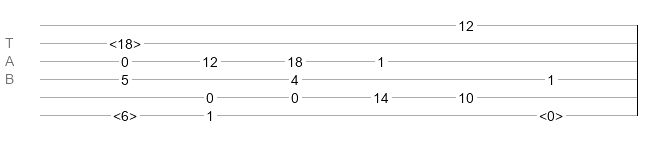0: (121, 54, 129, 64), (206, 90, 214, 100), (291, 90, 299, 100)
1: (206, 108, 214, 118), (377, 54, 385, 64), (547, 72, 555, 82)
10: (458, 90, 474, 100)
12: (202, 54, 218, 64), (458, 18, 474, 28)
14: (373, 90, 389, 100)
18: (287, 54, 303, 64)
4: (291, 72, 299, 82)
5: (121, 72, 129, 82)
harmonic: (109, 36, 141, 46), (113, 108, 137, 118), (539, 108, 563, 118)
